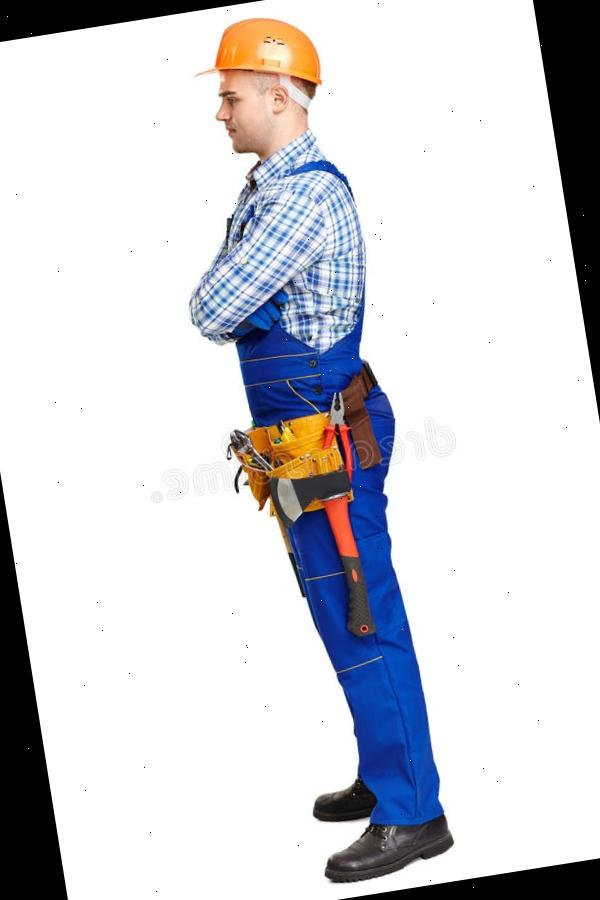helmet: (184, 7, 327, 112)
no_wear: (202, 151, 390, 428)
